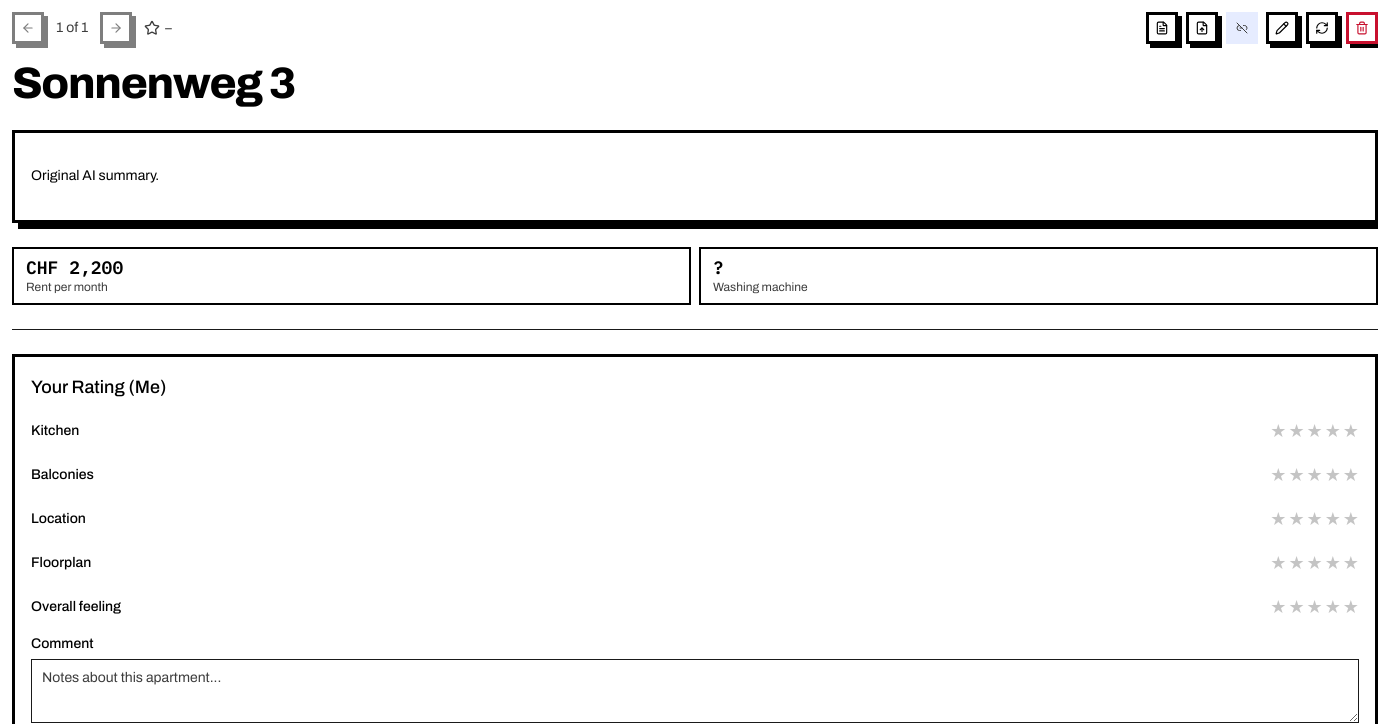
Test case: Apartment detail — reprocess › spends nothing on a PDF too large to read, and says how to make it smaller
The image size is (1390, 724).
Click the button named "Reprocess" at (1322, 28), box [1306,12,1338,44]
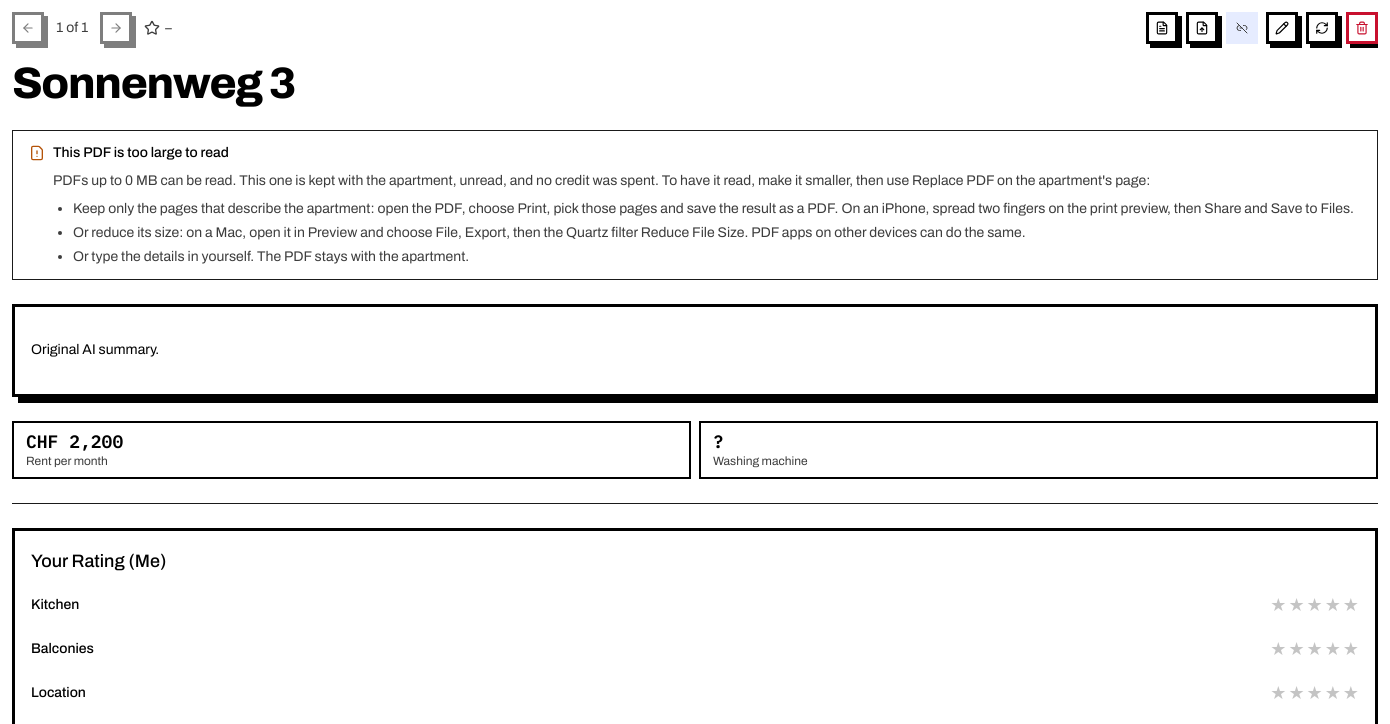
Expected: the text "This PDF is too large to read" is shown, [53,145,229,160]
Expected: the text "PDFs up to 0 MB can be read" is shown, [53,173,1150,188]
